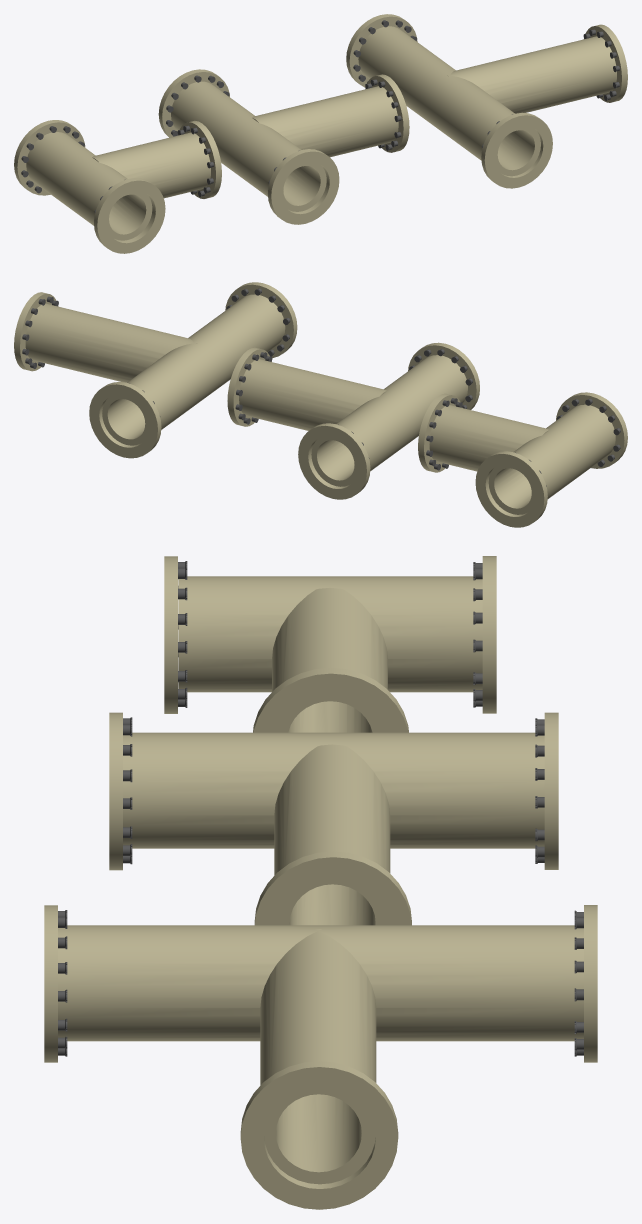
The model's file is pipes2.fbx.
3 views of the same model, one above another, from view 1: azimuth 30°, elevation 25°; view 2: azimuth 150°, elevation 25°; view 3: azimuth 270°, elevation 25° (orthographic). The views are drawn at different scales.
Visible parts, largest first — view 1: Цилиндр.004, Цилиндр.022, Цилиндр.017, Цилиндр.011, Цилиндр.014, Цилиндр.003, Цилиндр.009, Цилиндр.020, Цилиндр.007, Цилиндр.012, Цилиндр.001, Цилиндр.023 (+9 smaller); view 2: Цилиндр.004, Цилиндр.022, Цилиндр.017, Цилиндр.011, Цилиндр.014, Цилиндр.003, Цилиндр.023, Цилиндр.012, Цилиндр.001, Цилиндр.009, Цилиндр.007, Цилиндр.020 (+9 smaller); view 3: Цилиндр.004, Цилиндр.022, Цилиндр.011, Цилиндр.017, Цилиндр.014, Цилиндр.003, Цилиндр.015, Цилиндр.019, Цилиндр.008, Цилиндр.012, Цилиндр.023, Цилиндр.020 (+3 smaller).
Part boxes in pixels (x1=…): Цилиндр.004: x1=358, y1=26, x2=540, y2=176; Цилиндр.022: x1=171, y1=81, x2=326, y2=211; Цилиндр.017: x1=447, y1=36, x2=616, y2=113; Цилиндр.011: x1=26, y1=132, x2=152, y2=240; Цилиндр.014: x1=252, y1=86, x2=398, y2=157; Цилиндр.003: x1=92, y1=132, x2=210, y2=198; Цилиндр.009: x1=94, y1=178, x2=165, y2=253; Цилиндр.020: x1=268, y1=149, x2=339, y2=224; Цилиндр.007: x1=481, y1=112, x2=552, y2=188; Цилиндр.012: x1=14, y1=120, x2=85, y2=195; Цилиндр.001: x1=346, y1=14, x2=417, y2=87; Цилиндр.023: x1=158, y1=69, x2=229, y2=137; Цилиндр.004: x1=102, y1=294, x2=285, y2=445; Цилиндр.022: x1=311, y1=355, x2=467, y2=486; Цилиндр.017: x1=25, y1=303, x2=196, y2=382; Цилиндр.011: x1=488, y1=404, x2=615, y2=514; Цилиндр.014: x1=239, y1=359, x2=386, y2=430; Цилиндр.003: x1=429, y1=405, x2=549, y2=471; Цилиндр.023: x1=298, y1=423, x2=370, y2=499; Цилиндр.012: x1=475, y1=451, x2=547, y2=527; Цилиндр.001: x1=89, y1=382, x2=161, y2=458; Цилиндр.009: x1=556, y1=392, x2=627, y2=468; Цилиндр.007: x1=225, y1=282, x2=297, y2=358; Цилиндр.020: x1=408, y1=342, x2=479, y2=409; Цилиндр.004: x1=58, y1=925, x2=583, y2=1041; Цилиндр.022: x1=123, y1=732, x2=544, y2=848; Цилиндр.011: x1=178, y1=576, x2=482, y2=692; Цилиндр.017: x1=260, y1=929, x2=376, y2=1184; Цилиндр.014: x1=274, y1=744, x2=390, y2=925; Цилиндр.003: x1=272, y1=588, x2=387, y2=732; Цилиндр.015: x1=240, y1=1061, x2=398, y2=1209; Цилиндр.019: x1=254, y1=851, x2=411, y2=925; Цилиндр.008: x1=253, y1=667, x2=408, y2=732; Цилиндр.012: x1=482, y1=556, x2=496, y2=713; Цилиндр.023: x1=544, y1=712, x2=558, y2=869; Цилиндр.020: x1=109, y1=712, x2=122, y2=870.
Bounding box in the file's own units: 1550 × 192 × 675.
